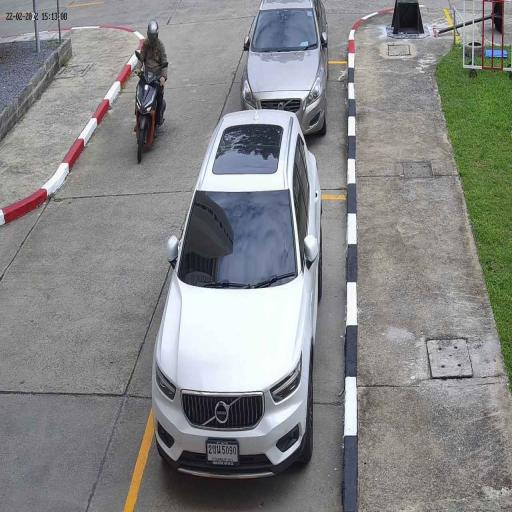car: (150, 108, 324, 492), (240, 0, 330, 142)
motorcycle: (132, 73, 167, 160)
